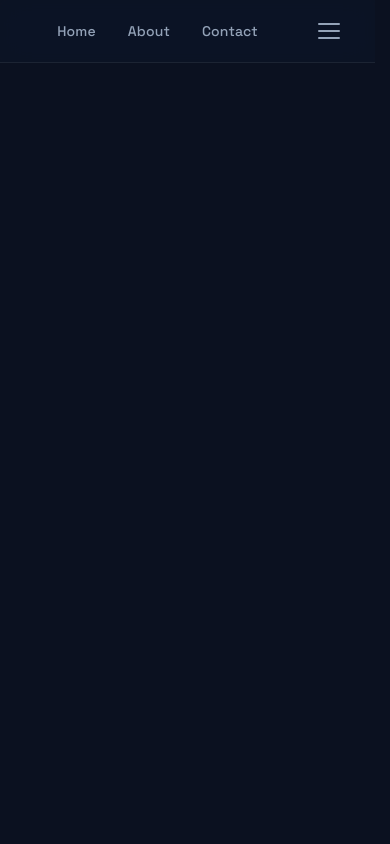
Nav › closes the panel on Escape key
The width and height of the screenshot is (390, 844).
Click the button named "Open navigation menu". click: point(329, 31)
box: left=307, top=9, right=351, bottom=53
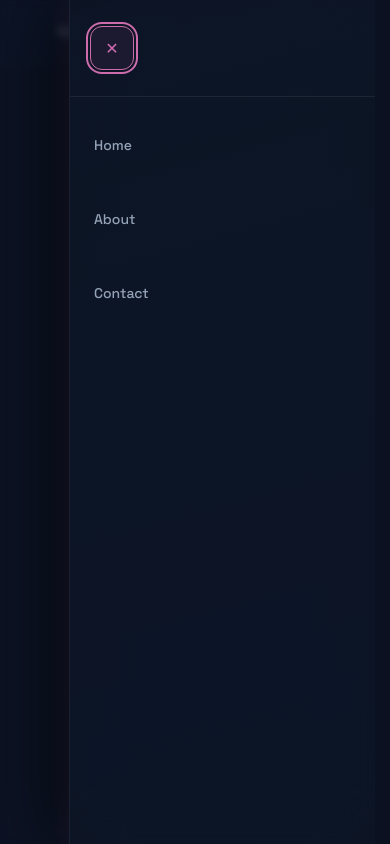
Expected: the dialog is shown
Press Escape
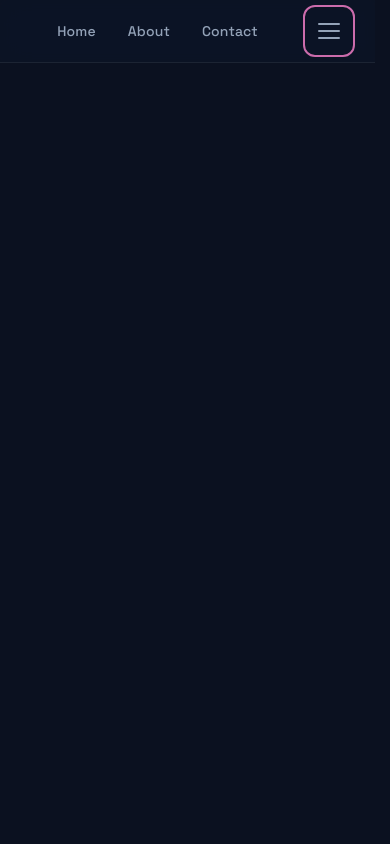
Expected: the dialog is gone
